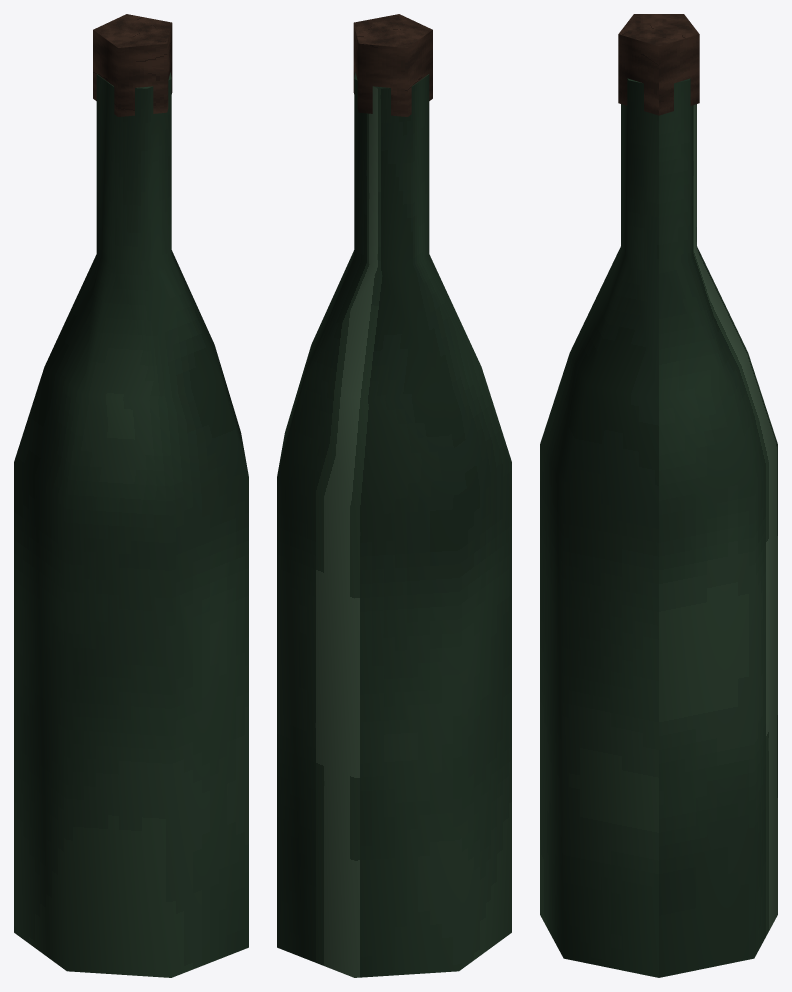
The model's file is PSXH_Bottle_Wine.glb.
The picture shows the model from 3 angles, left to right: view 1: azimuth 30°, elevation 25°; view 2: azimuth 150°, elevation 25°; view 3: azimuth 270°, elevation 25°; orthographic projection.
Parts seen in each view (by area): view 1: PSXH_Bottle_Wine; view 2: PSXH_Bottle_Wine; view 3: PSXH_Bottle_Wine.
Part boxes in pixels (x1,y1,x2,y2): PSXH_Bottle_Wine: [14, 14, 248, 977]; PSXH_Bottle_Wine: [277, 14, 511, 977]; PSXH_Bottle_Wine: [540, 14, 777, 977].
Size of the model in its own units: 0.076 by 0.325 by 0.078.
1 material, 1 textured.
